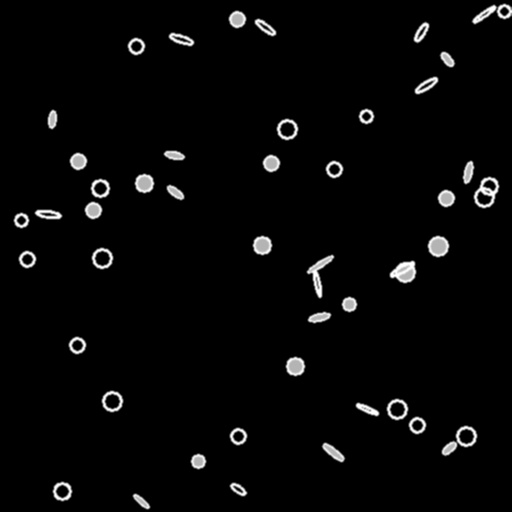pseudomonas: (306, 254, 334, 274), (321, 442, 345, 462), (472, 4, 496, 24), (389, 260, 415, 278), (413, 76, 439, 94), (254, 18, 276, 36), (168, 32, 194, 46), (413, 22, 429, 42), (356, 402, 378, 416), (166, 184, 184, 200), (439, 50, 455, 68), (312, 269, 322, 297), (133, 493, 149, 509), (441, 440, 457, 456), (229, 482, 247, 496), (36, 209, 60, 219), (308, 312, 330, 322), (463, 162, 473, 182), (164, 150, 184, 160), (48, 110, 56, 128)
synechocystis: (457, 427, 475, 445), (278, 120, 296, 138), (103, 392, 121, 410), (93, 249, 111, 267), (396, 263, 414, 281), (429, 237, 447, 255), (388, 400, 406, 418), (475, 188, 493, 206), (287, 358, 303, 374), (136, 175, 152, 191), (92, 180, 108, 196), (254, 237, 270, 253), (481, 178, 497, 194), (54, 483, 70, 499), (439, 191, 453, 205), (264, 156, 278, 170), (70, 338, 84, 352), (410, 418, 424, 432), (86, 203, 100, 217), (327, 162, 341, 176), (230, 12, 244, 26), (71, 154, 85, 168), (231, 429, 245, 443), (20, 252, 34, 266), (129, 39, 143, 53), (360, 110, 372, 122), (343, 298, 355, 310), (15, 214, 27, 226), (498, 5, 510, 17), (192, 455, 204, 467)
